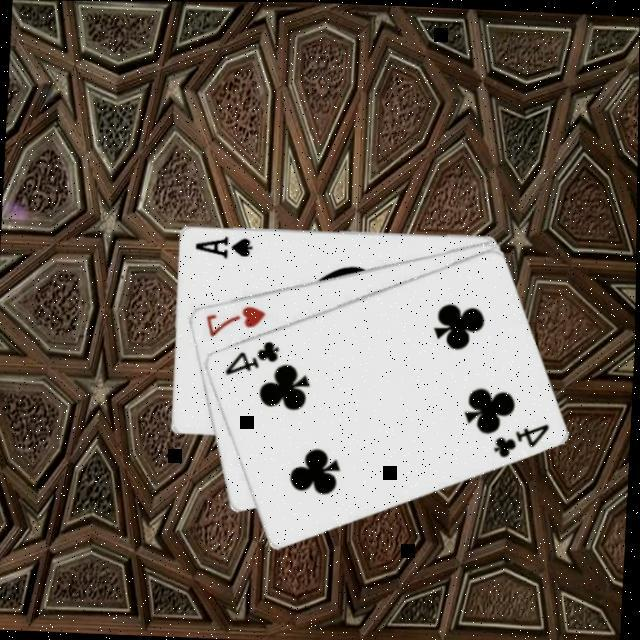4C: (220, 333, 282, 378), (488, 416, 550, 460)
7H: (200, 300, 268, 340)
AS: (188, 229, 254, 259)
